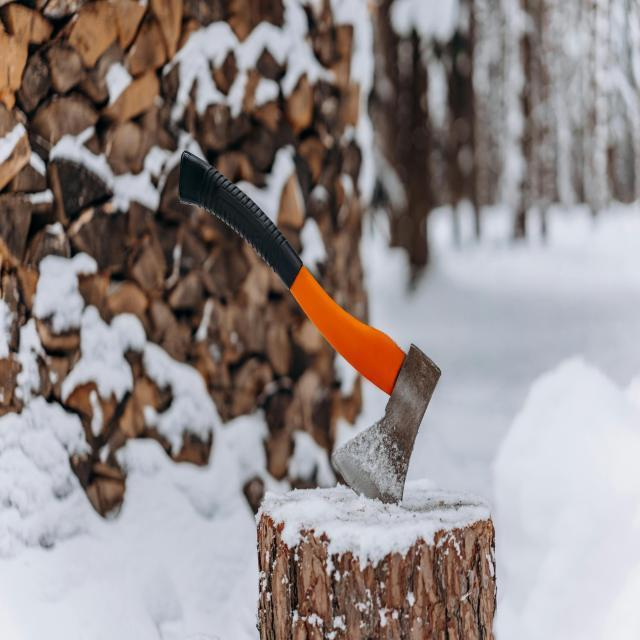Axe: (180, 141, 442, 505)
